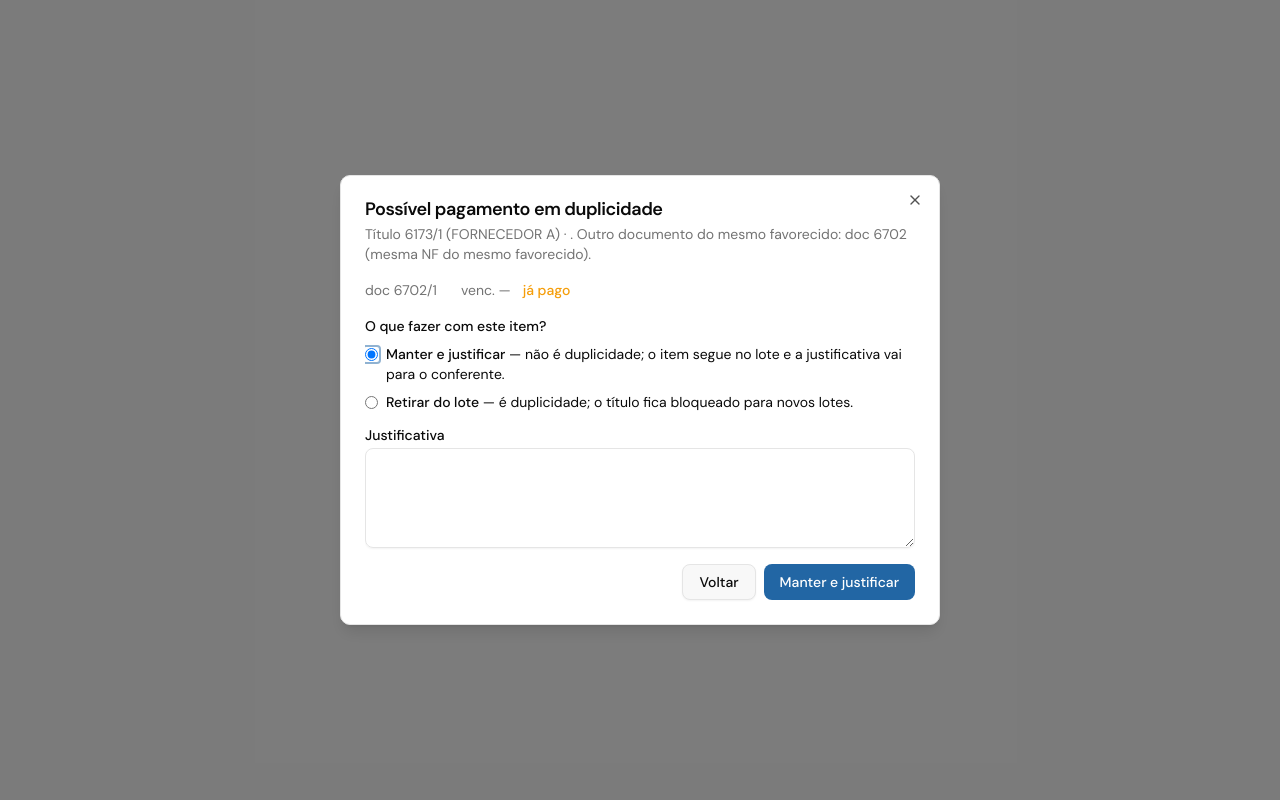
Scenario: ResolverDuplicidadeDialog › erro do backend aparece em português, no diálogo
Step 1. Type "x" into the text box labelled "Justificativa" → (640, 498), box [365, 448, 915, 548]
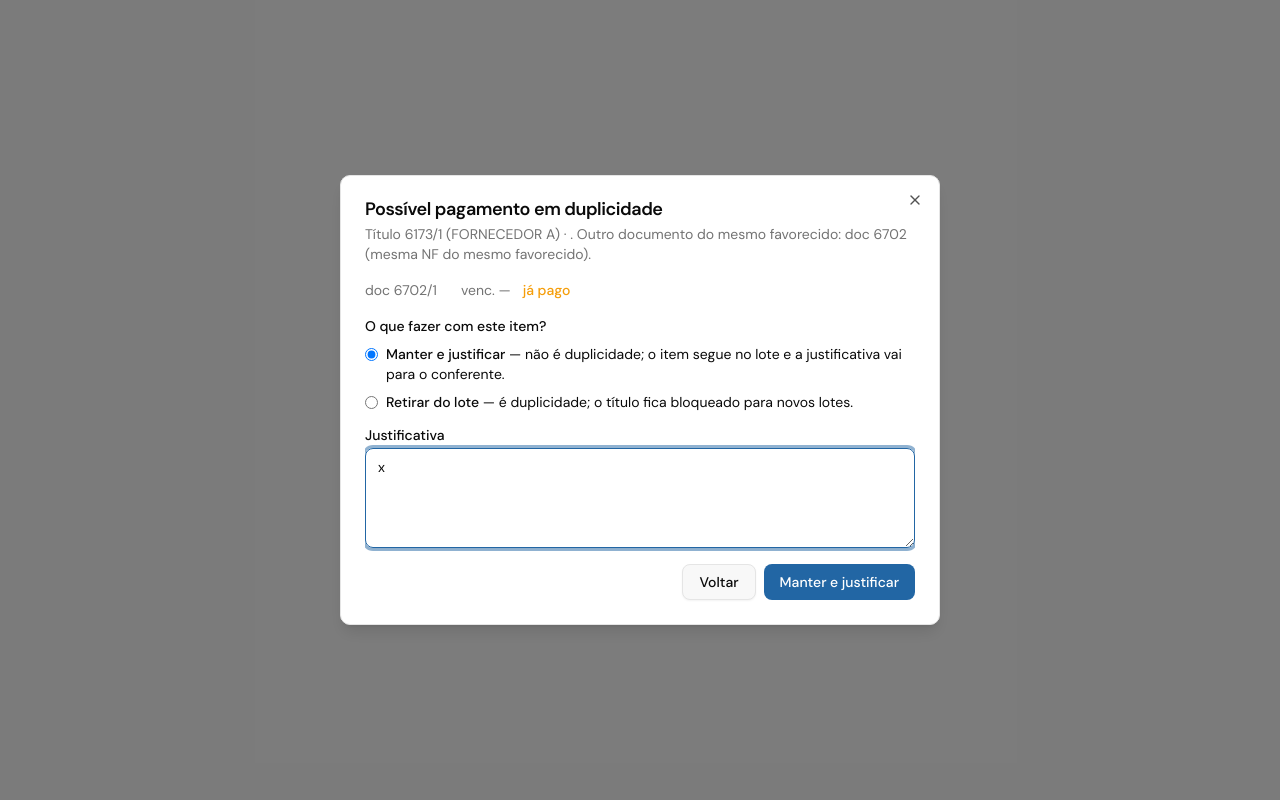
Step 2. Click the button "Manter e justificar" → (839, 582), box [764, 564, 915, 600]
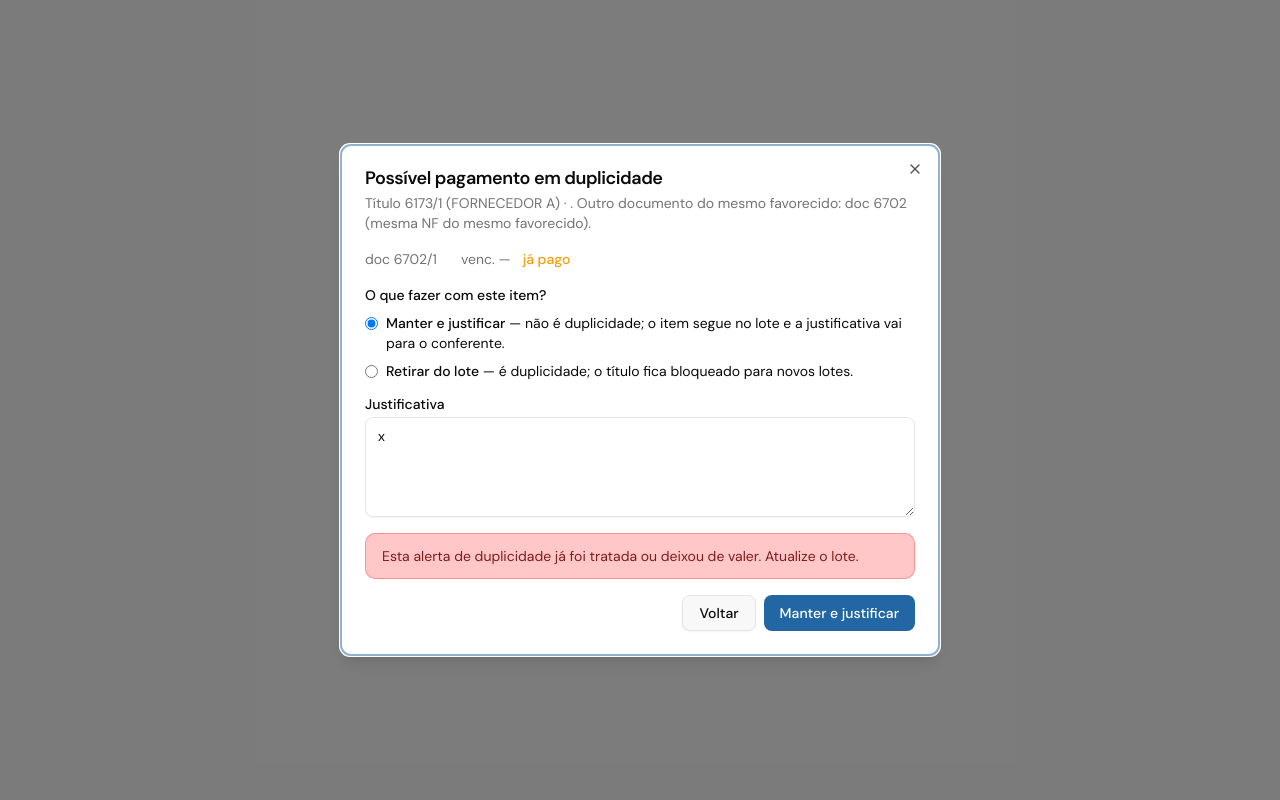
expect the text "Esta alerta de duplicidade já foi tratada ou deixou de valer. Atualize o lote." is shown: met, box [365, 533, 915, 579]
